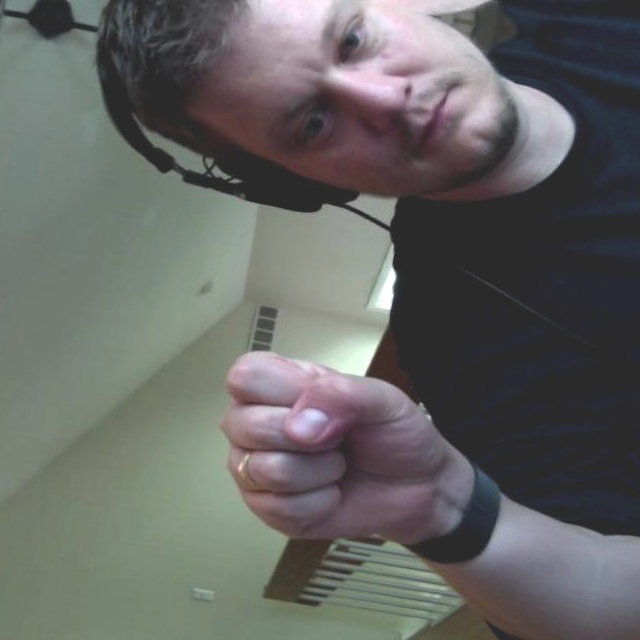Rock: (197, 342, 474, 577)
